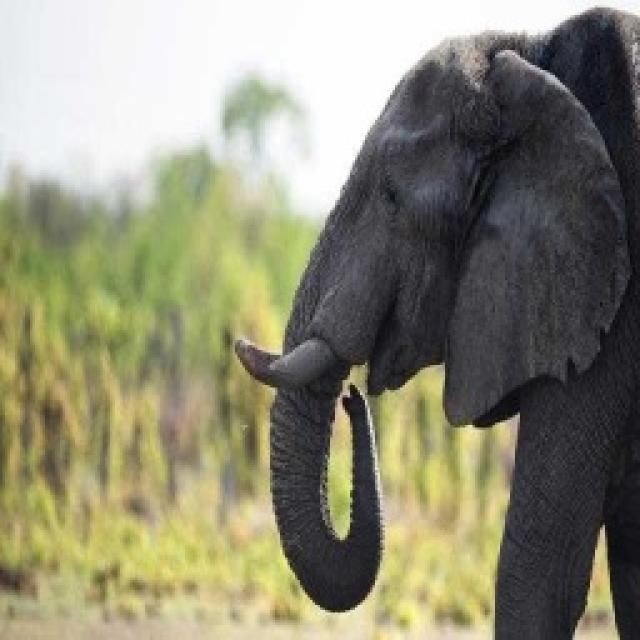not_pig: (232, 5, 638, 637)
